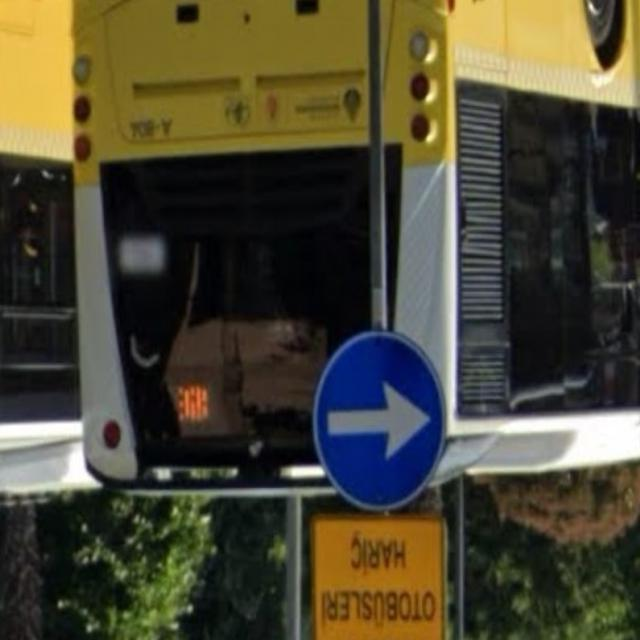Turn Right: (324, 339, 451, 513)
